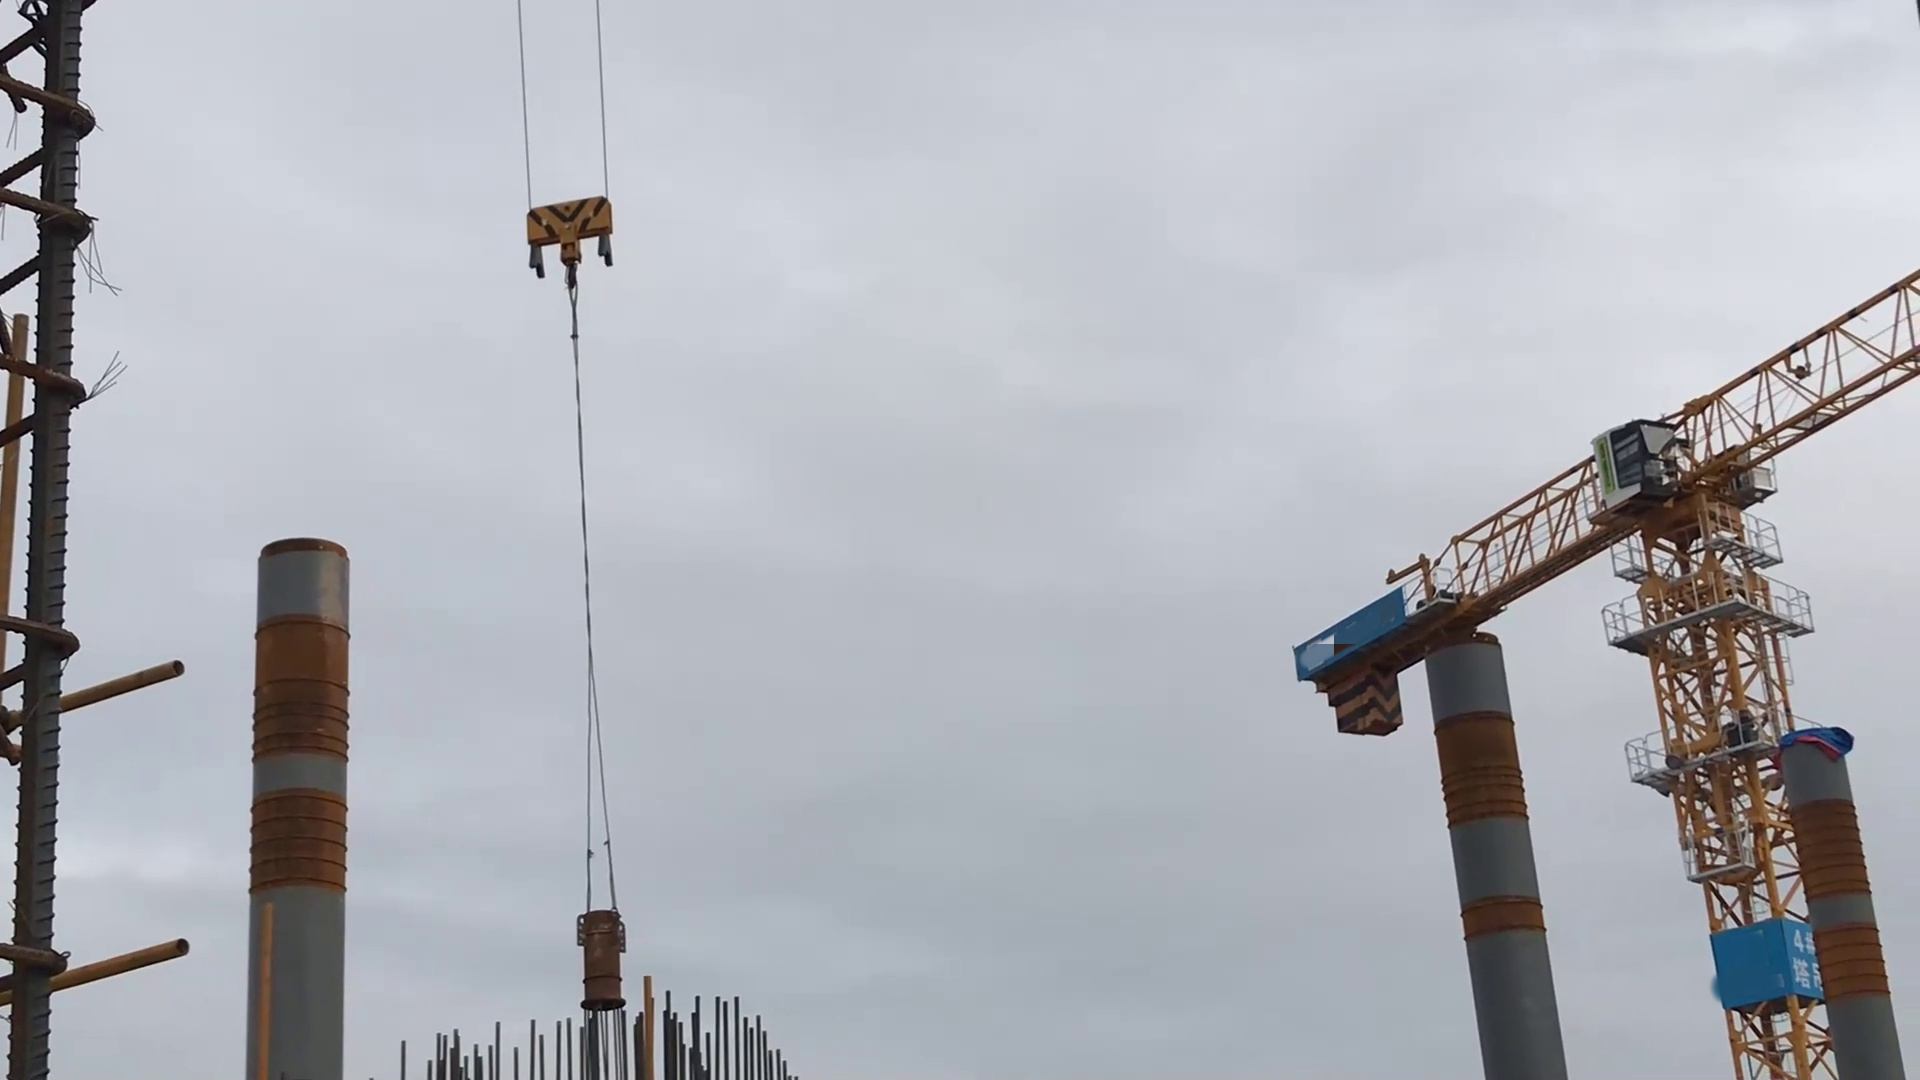hook: (520, 198, 613, 276)
